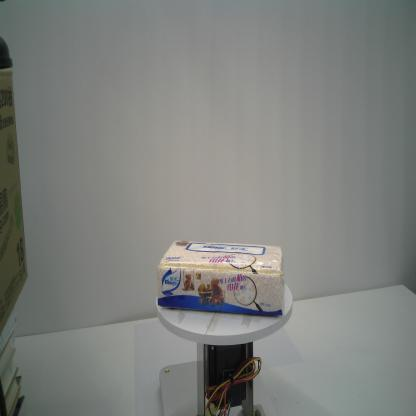Tissue: (156, 238, 286, 317)
